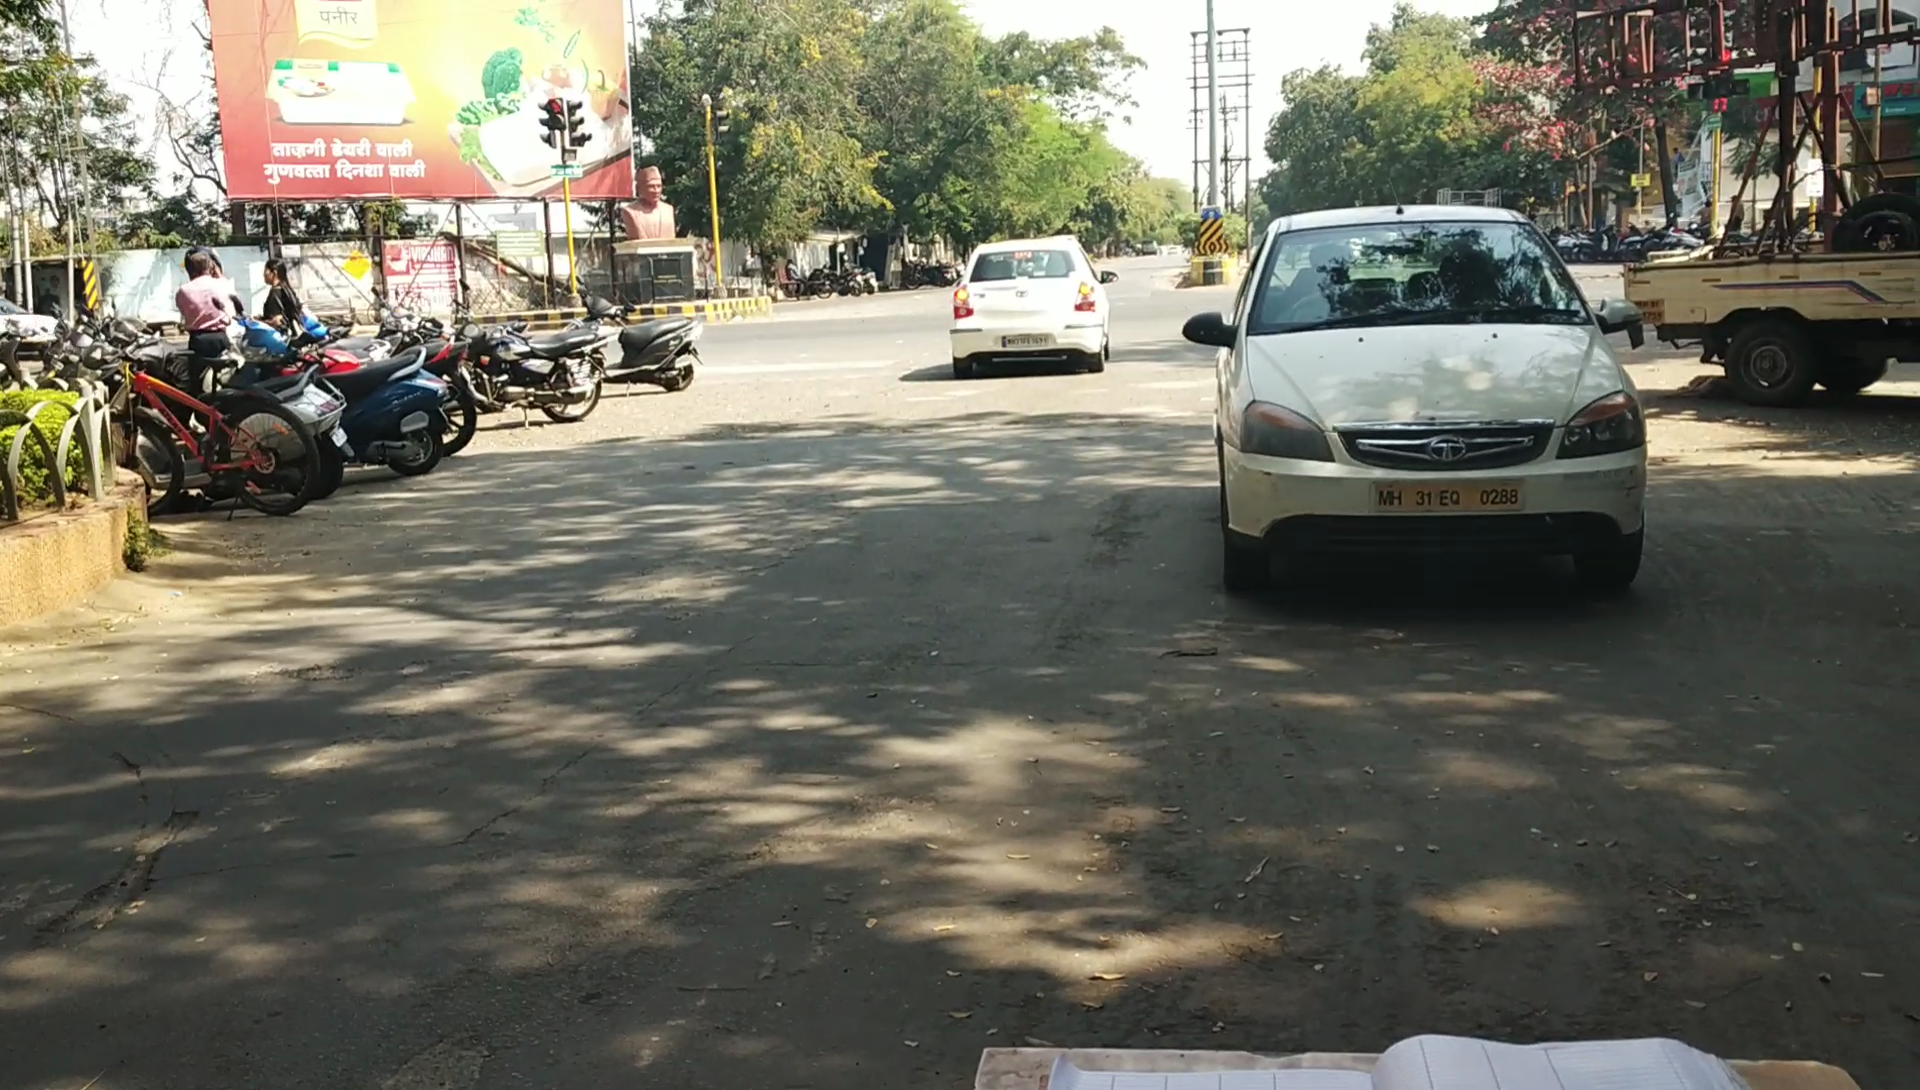car: (1161, 195, 1673, 612)
numplate: (1375, 479, 1524, 526)
